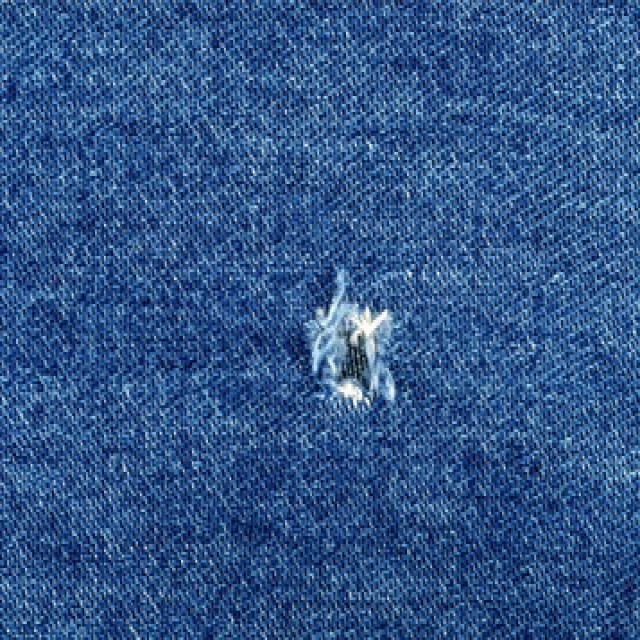Hole: (306, 269, 395, 407)
